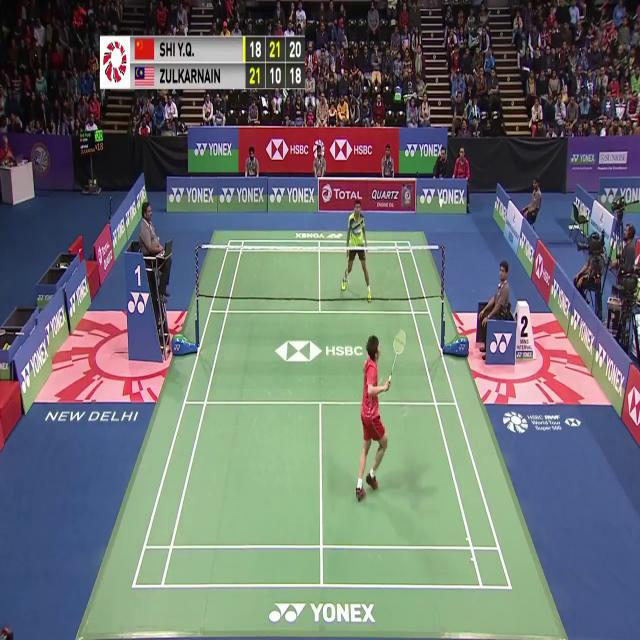Shuttlecock: (437, 200, 444, 211)
